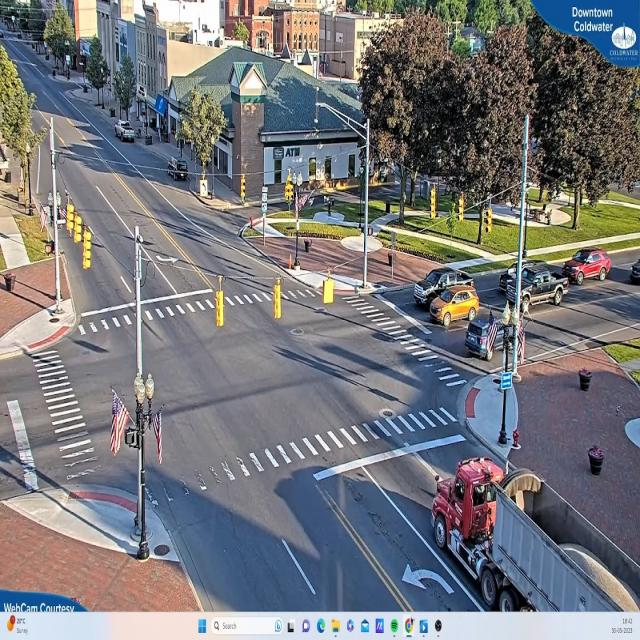car: (500, 264, 568, 310), (412, 266, 474, 308), (430, 290, 480, 327), (561, 249, 611, 284), (166, 154, 186, 180)
